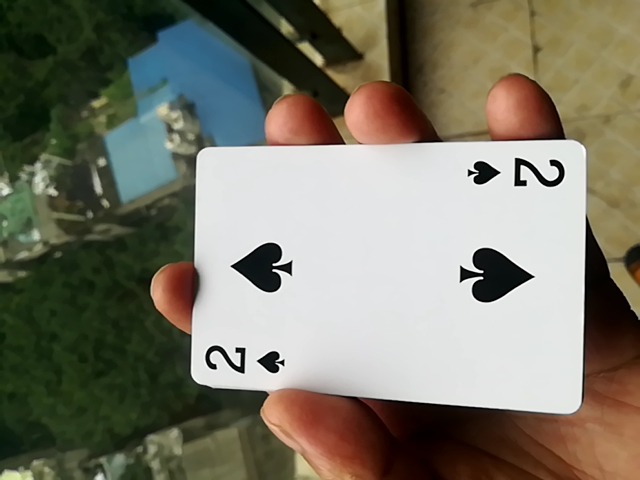ht 2: (176, 136, 579, 419)
